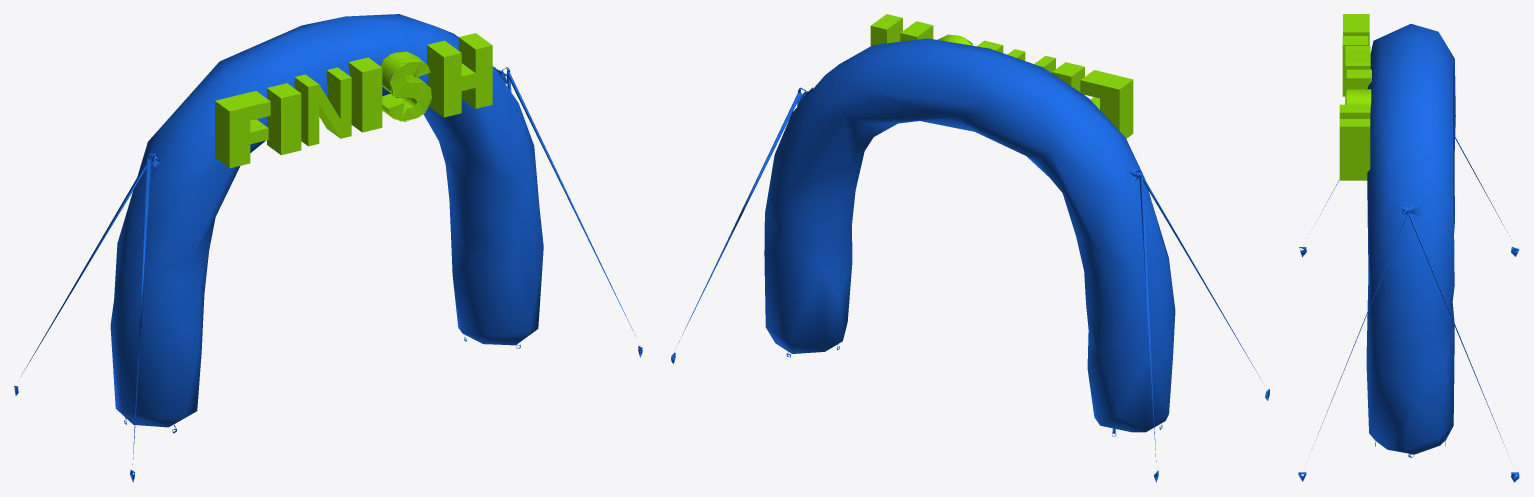
Rendered from finish.fbx.
3 views of the same model, side by side, from view 1: azimuth 30°, elevation 25°; view 2: azimuth 150°, elevation 25°; view 3: azimuth 270°, elevation 25° (orthographic). The views are drawn at different scales.
Visible parts, largest first — view 1: inflatable-arch, node_id134; view 2: inflatable-arch, node_id134; view 3: inflatable-arch, node_id134.
Part boxes in pixels (<box>): inflatable-arch: <box>14,14,642,482</box>; node_id134: <box>215,33,492,168</box>; inflatable-arch: <box>671,38,1269,482</box>; node_id134: <box>870,14,1133,138</box>; inflatable-arch: <box>1298,24,1519,482</box>; node_id134: <box>1339,14,1371,180</box>.
Bounding box in the file's own units: 1442 × 952 × 594.
